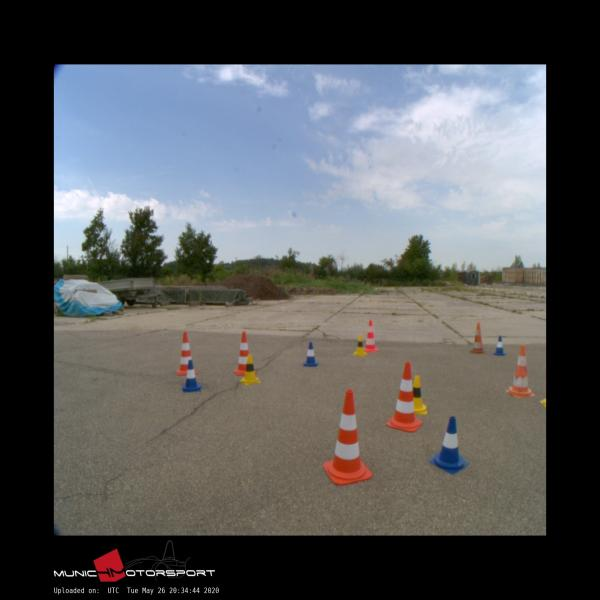blue_cone: (430, 416, 468, 473), (182, 360, 200, 390), (303, 341, 317, 366), (493, 335, 504, 354)
large_orange_cone: (323, 390, 372, 482), (386, 361, 422, 431), (506, 345, 533, 397), (233, 331, 256, 375), (176, 332, 196, 374), (470, 322, 485, 354), (364, 320, 378, 352)
yellow_cone: (408, 376, 427, 414), (239, 354, 261, 385), (352, 334, 367, 355)
